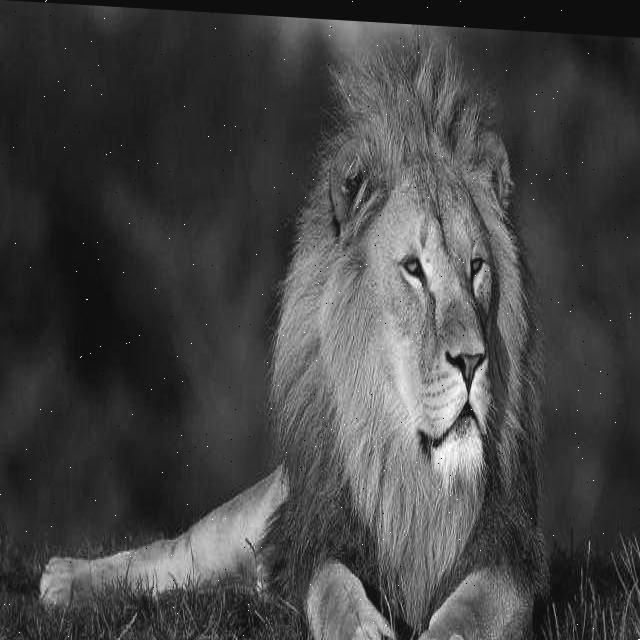Lion: (222, 63, 597, 640)
